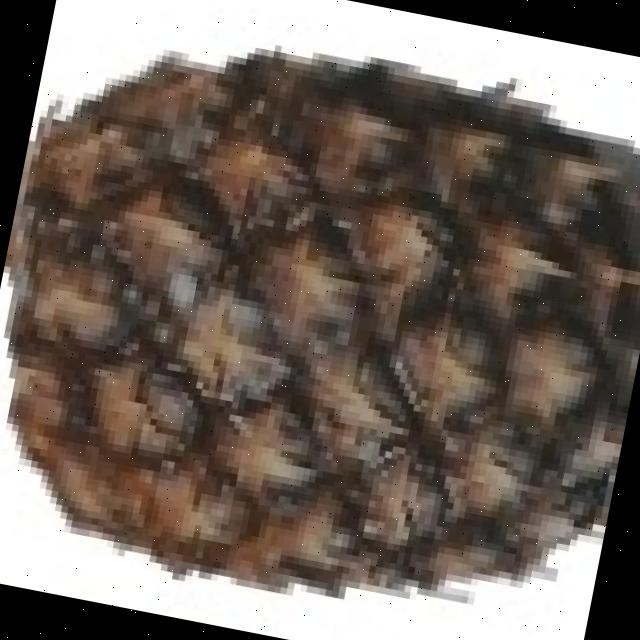pineapple: (5, 51, 640, 594)
